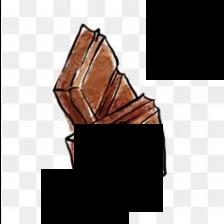brown: (53, 26, 165, 216)
